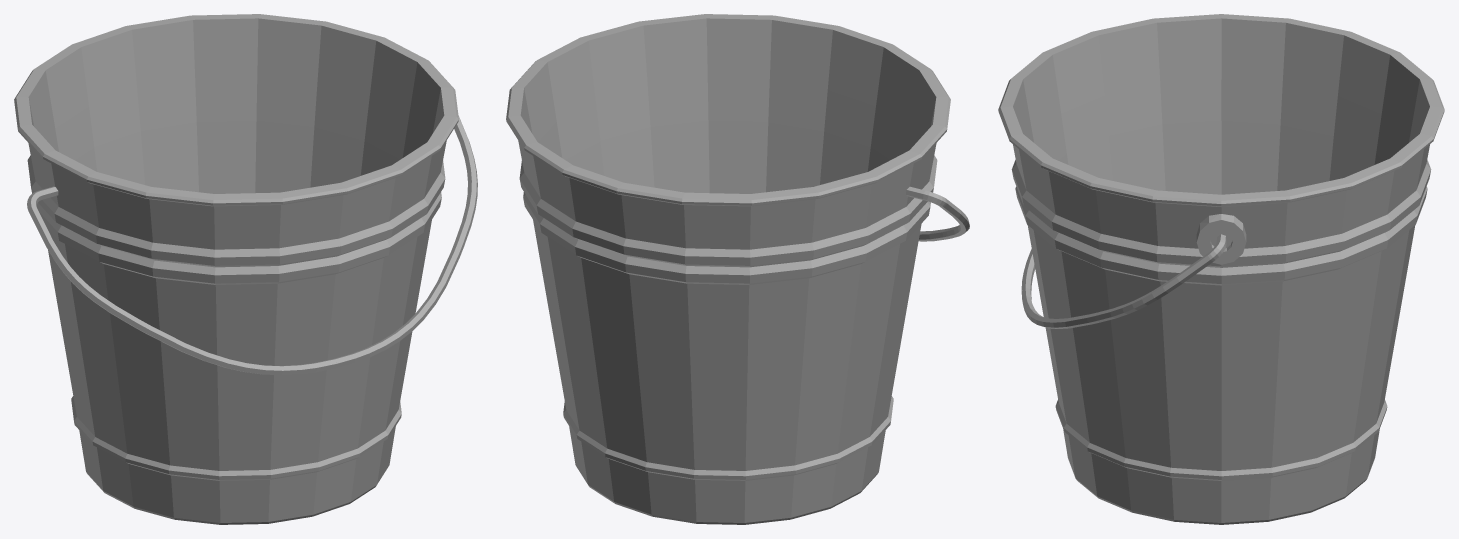
Rendered from df6131e2-b851-4482-8c78-9f5f35fbd3aa.glb.
The picture shows the model from 3 angles, left to right: view 1: azimuth 30°, elevation 25°; view 2: azimuth 150°, elevation 25°; view 3: azimuth 270°, elevation 25°; orthographic projection.
Parts seen in each view (by area): view 1: Bucket; view 2: Bucket; view 3: Bucket.
Part boxes in pixels (x1,y1,x2,y2): Bucket: (14, 14, 477, 524); Bucket: (506, 14, 969, 524); Bucket: (998, 14, 1444, 524).
Size of the model in its own units: 56.54 by 45.04 by 51.33.
1 material, 1 textured.
